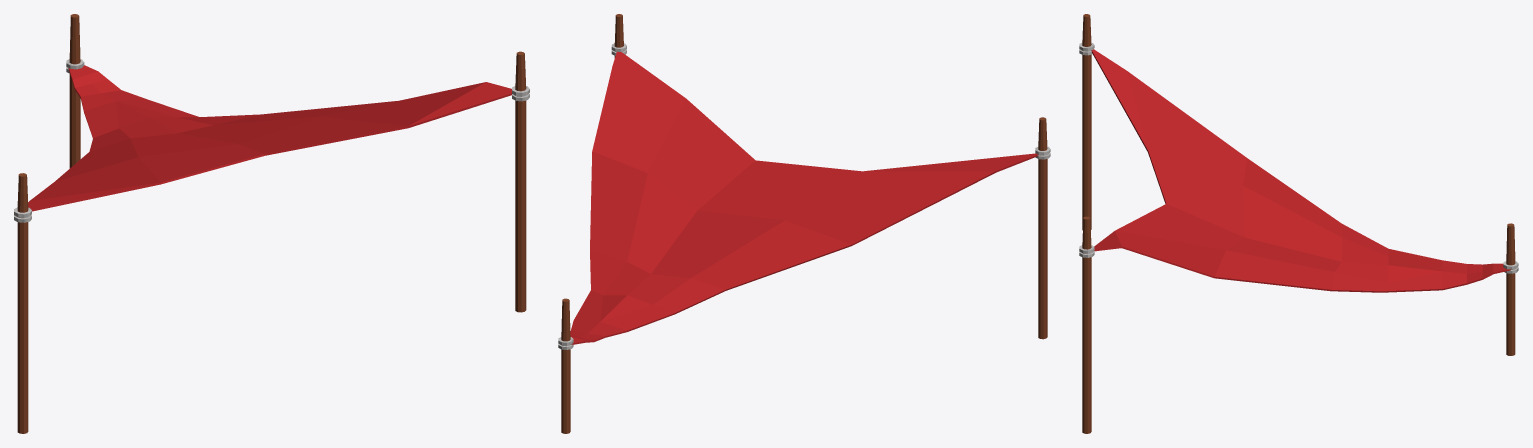
File: Canopy.fbx
3 renders of one model, left to right at view 1: azimuth 30°, elevation 25°; view 2: azimuth 150°, elevation 25°; view 3: azimuth 270°, elevation 25°, orthographic. The views are drawn at different scales.
Parts seen in each view (by area): view 1: Canopy; view 2: Canopy; view 3: Canopy.
Boxes of the visible parts, <box> form: Canopy: <box>14,14,529,433</box>; Canopy: <box>558,14,1050,433</box>; Canopy: <box>1079,14,1518,433</box>.
Size of the model in its own units: 2682 by 1281 by 2382.
Materials: 3 (3 with a texture image).
